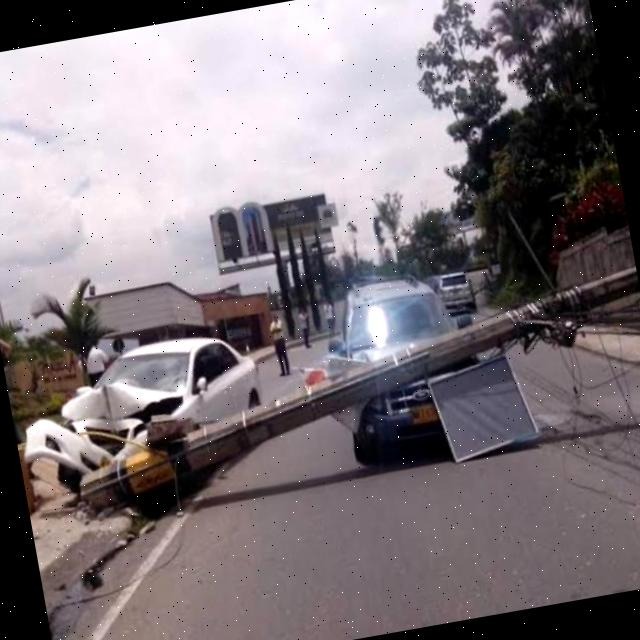Broken Pole: (71, 261, 640, 520)
